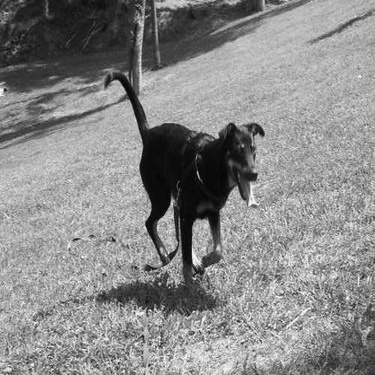dog: (87, 64, 271, 296)
